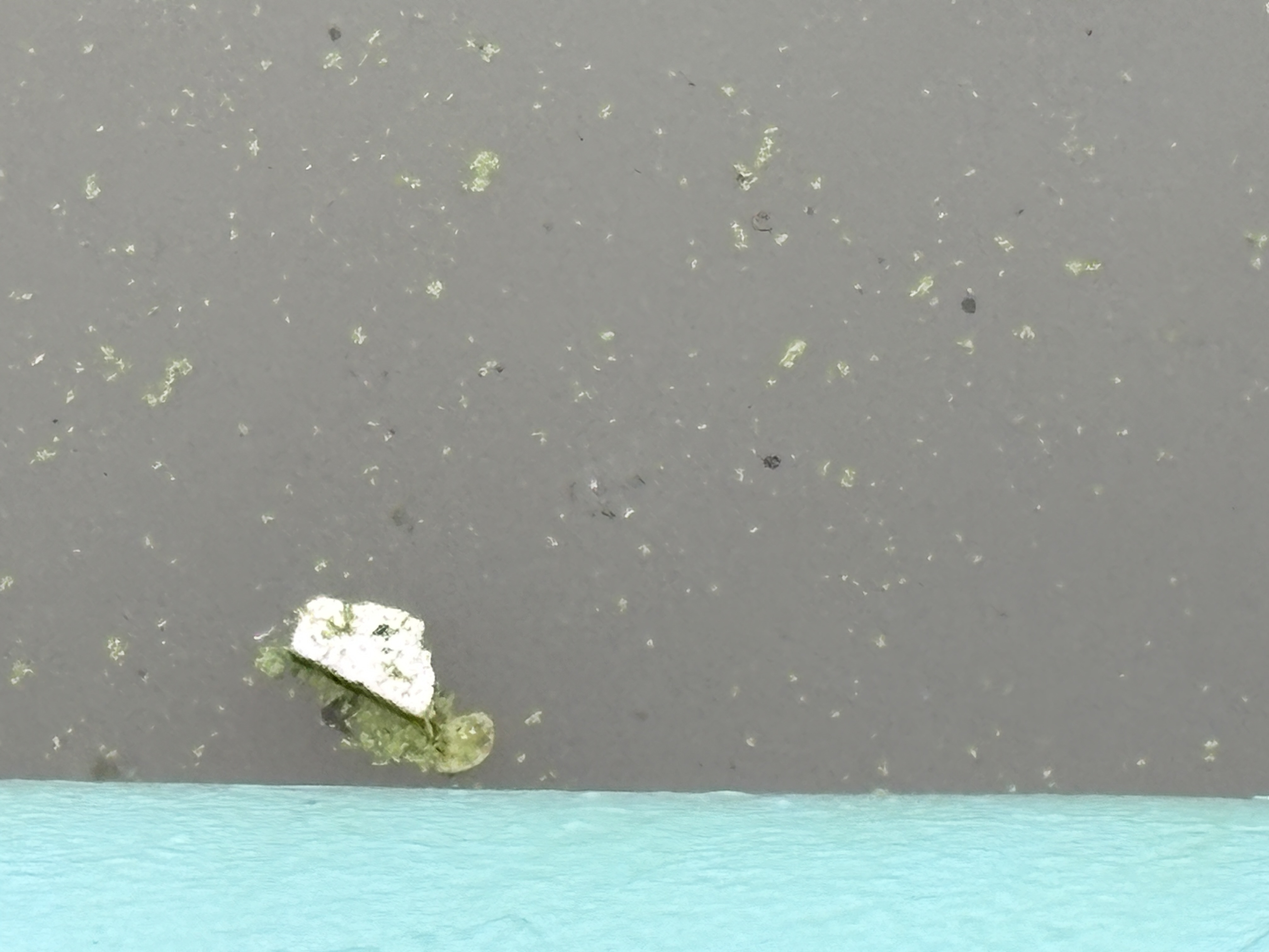Plastic wastes: (281, 589, 445, 733)
